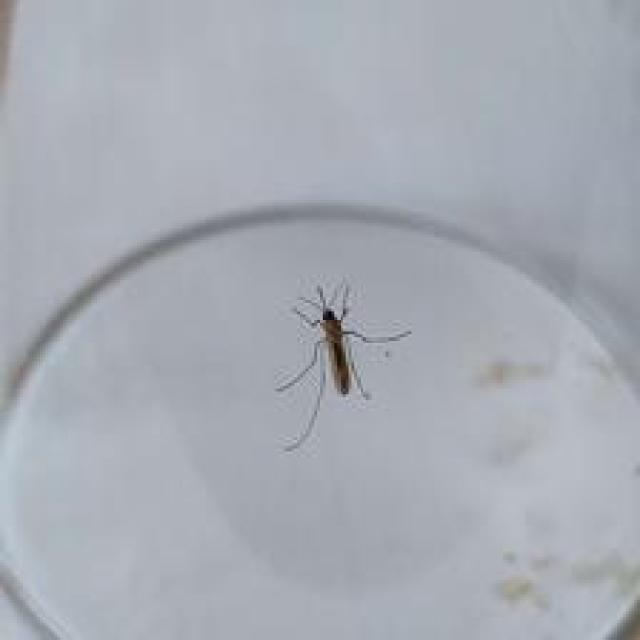Culex: (274, 278, 412, 453)
